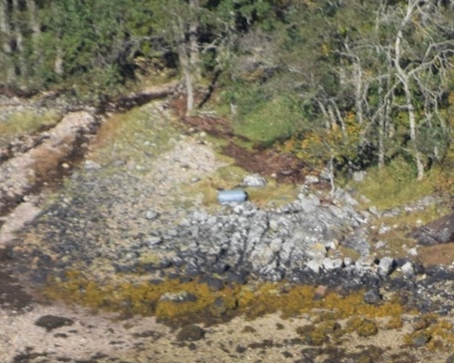white_in_green: (202, 169, 261, 219)
